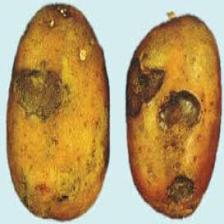Diseased-fungal potato: (6, 0, 111, 217), (120, 14, 222, 222)
